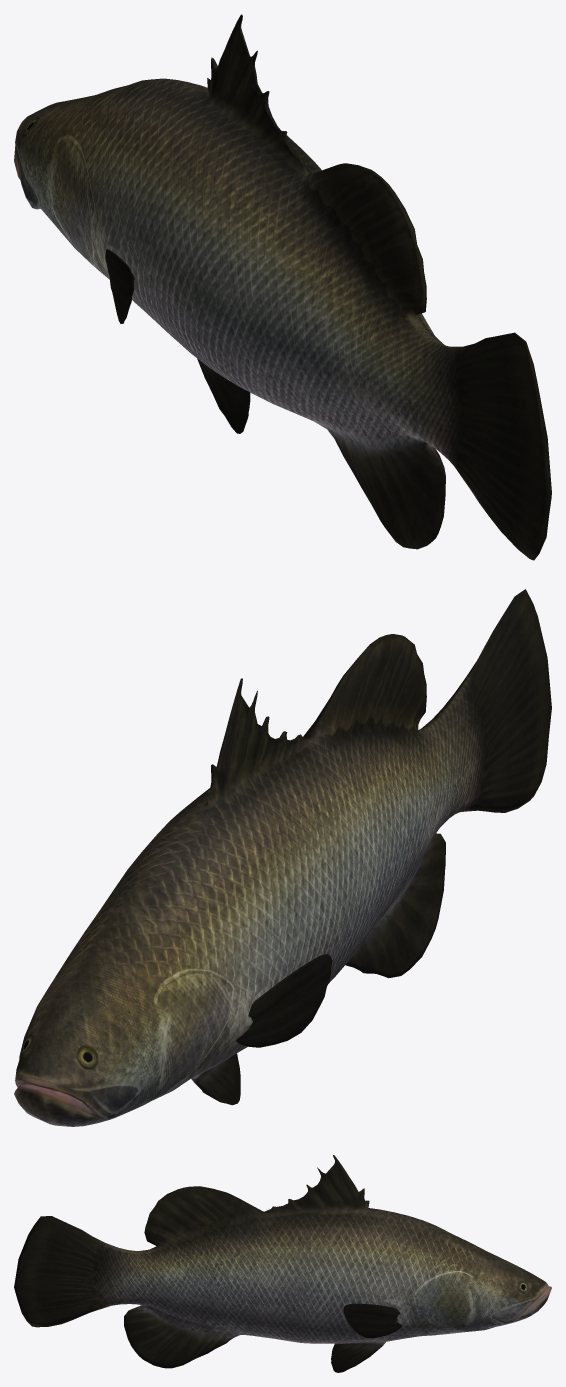
Rendered from gun.glb.
The picture shows the model from 3 angles, top to bottom: view 1: azimuth 30°, elevation 25°; view 2: azimuth 150°, elevation 25°; view 3: azimuth 270°, elevation 25°; orthographic projection. The views are drawn at different scales.
Parts seen in each view (by area): view 1: BarramundiFish; view 2: BarramundiFish; view 3: BarramundiFish.
Part boxes in pixels (x1=…): BarramundiFish: x1=14, y1=14, x2=551, y2=560; BarramundiFish: x1=14, y1=589, x2=551, y2=1126; BarramundiFish: x1=14, y1=1155, x2=551, y2=1372.
Bounding box in the file's own units: 0.1429 × 0.2875 × 0.6431.
Materials: 1 (1 with a texture image).
